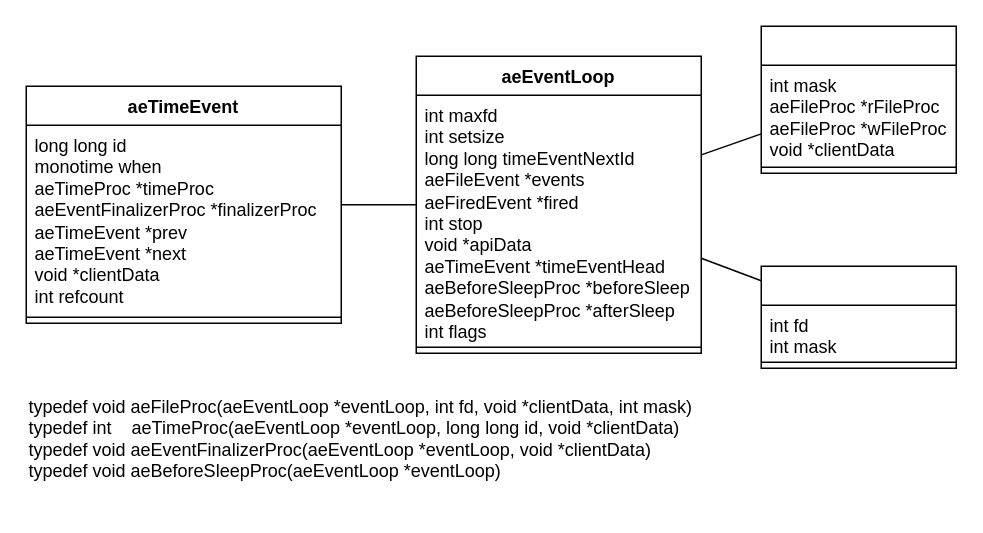
The diagram is 983 pixels wide and 533 high, and some of its shapes have lost their labels. The shapes that lost their labels are listed below. From the top down, each one's box as (x1, y1, x2, y2) in pixels, then its label:
(760, 25, 956, 173): aeFileEvent
(760, 265, 956, 368): aeFiredEvent
